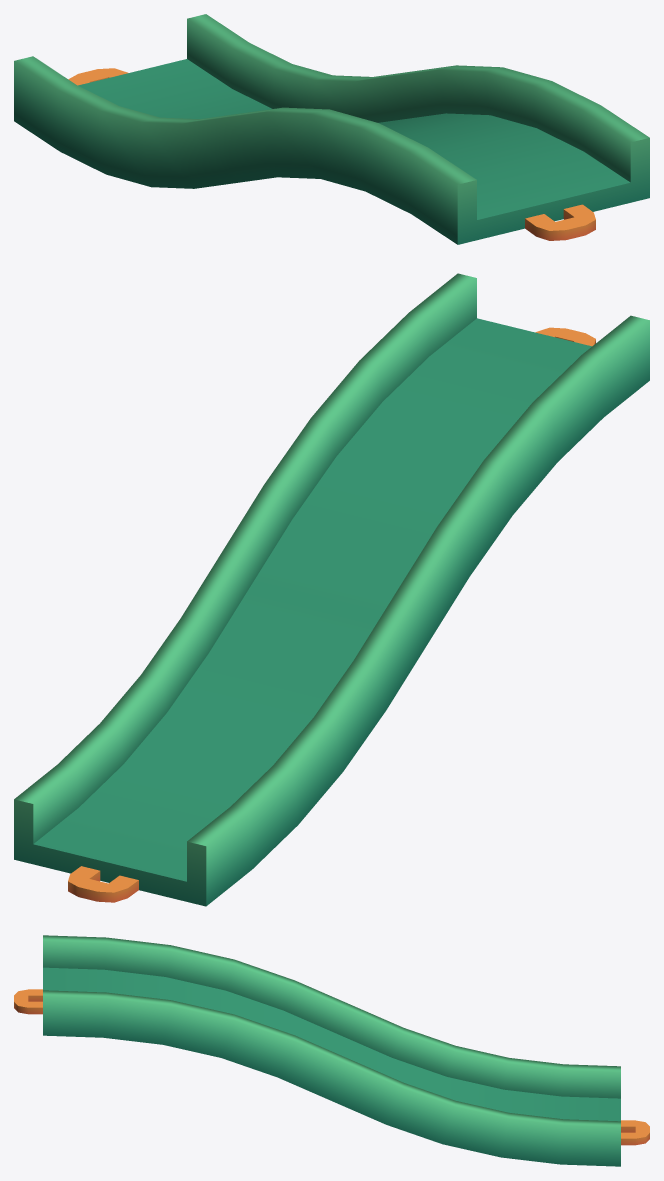
The model's file is track-narrow-straight-hill-complete.fbx.
3 renders of one model, top to bottom at view 1: azimuth 30°, elevation 25°; view 2: azimuth 150°, elevation 25°; view 3: azimuth 270°, elevation 25°, orthographic. The views are drawn at different scales.
Parts seen in each view (by area): view 1: track-narrow-straight-hill-complete; view 2: track-narrow-straight-hill-complete; view 3: track-narrow-straight-hill-complete.
Part boxes in pixels (<box>): track-narrow-straight-hill-complete: <box>14,14,649,244</box>; track-narrow-straight-hill-complete: <box>14,273,649,906</box>; track-narrow-straight-hill-complete: <box>14,935,649,1166</box>.
Bounding box in the file's own units: 100 × 130 × 440.
